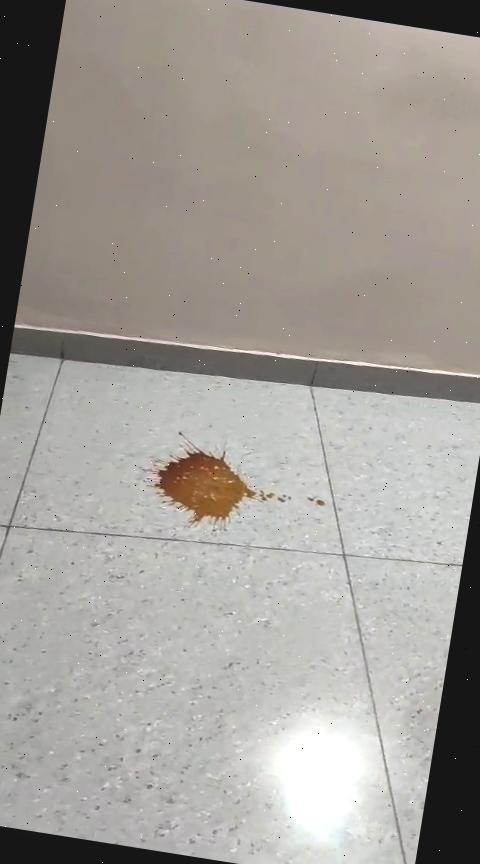dirty_floor: (135, 433, 284, 546)
